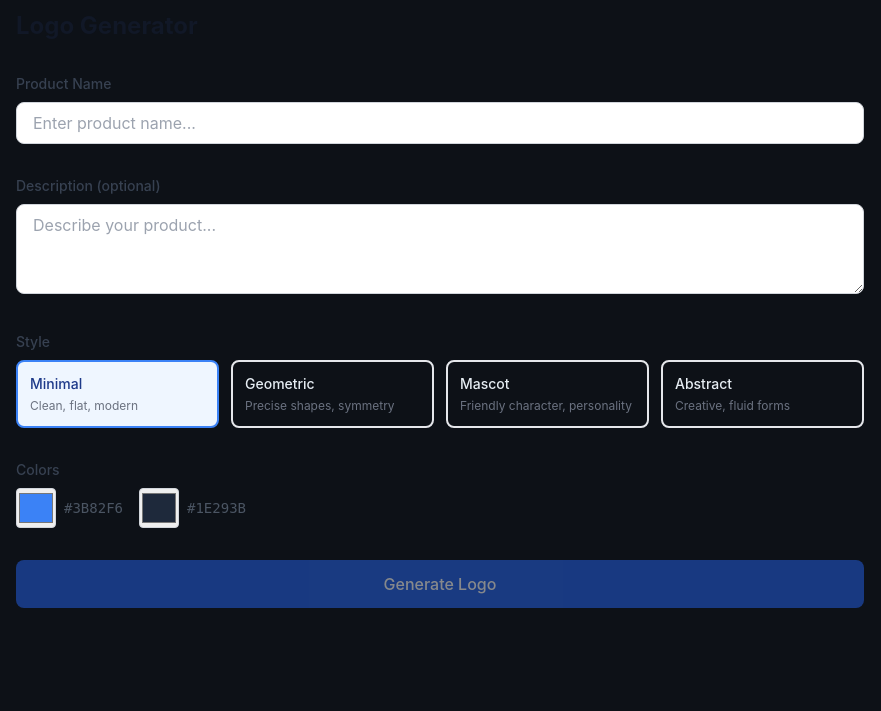
LogoGenerator › shows error message on API failure
Type "MyApp" into the field with placeholder "Enter product name..." at (440, 123), box [16,102,864,144]
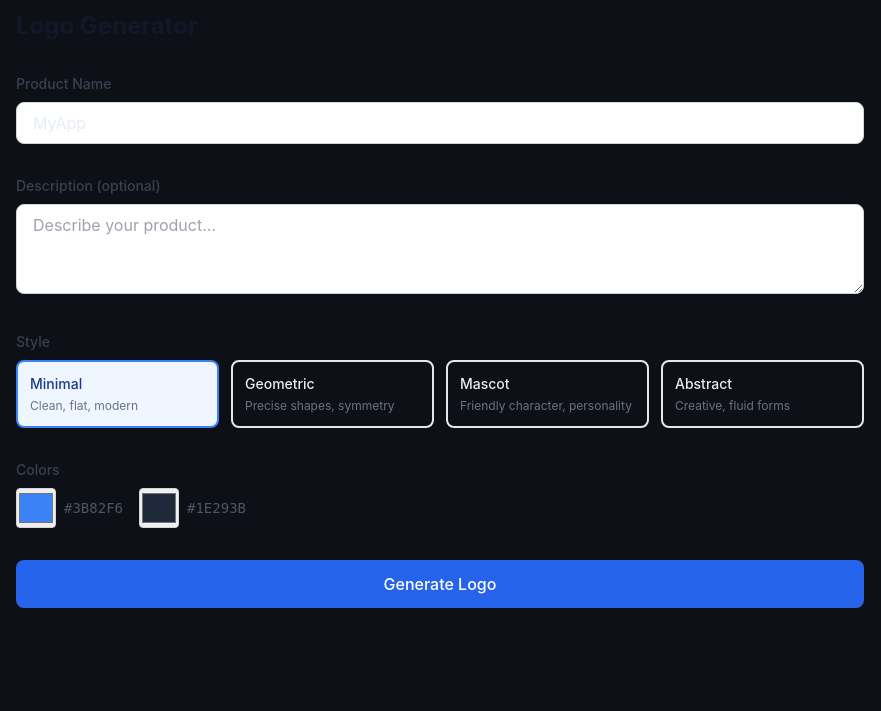
Click the button "Generate Logo" at (440, 584), box [16,560,864,608]
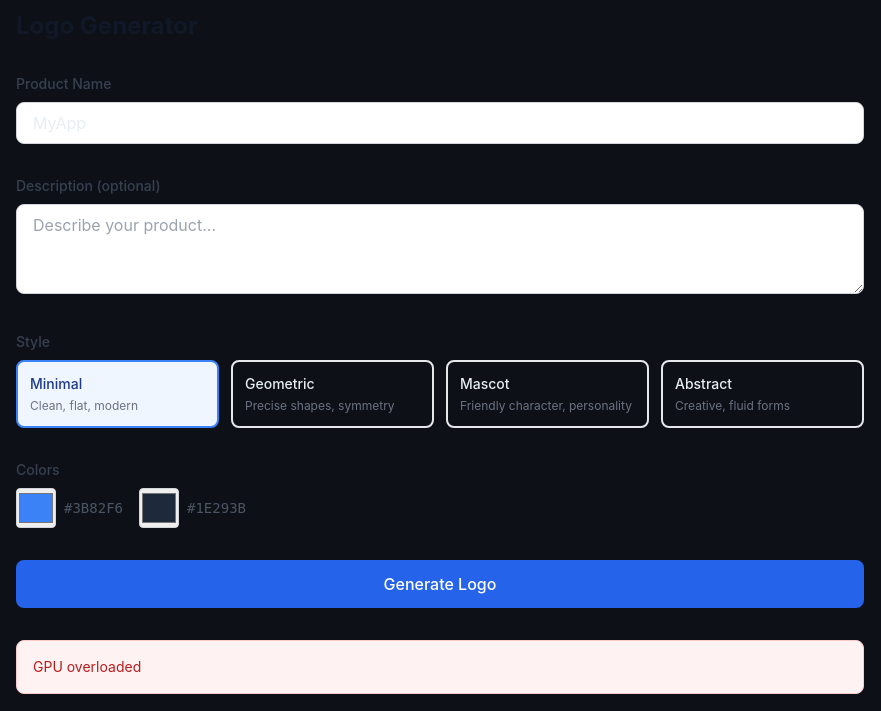
Check: the text "GPU overloaded" is shown, box [16,640,864,694]
